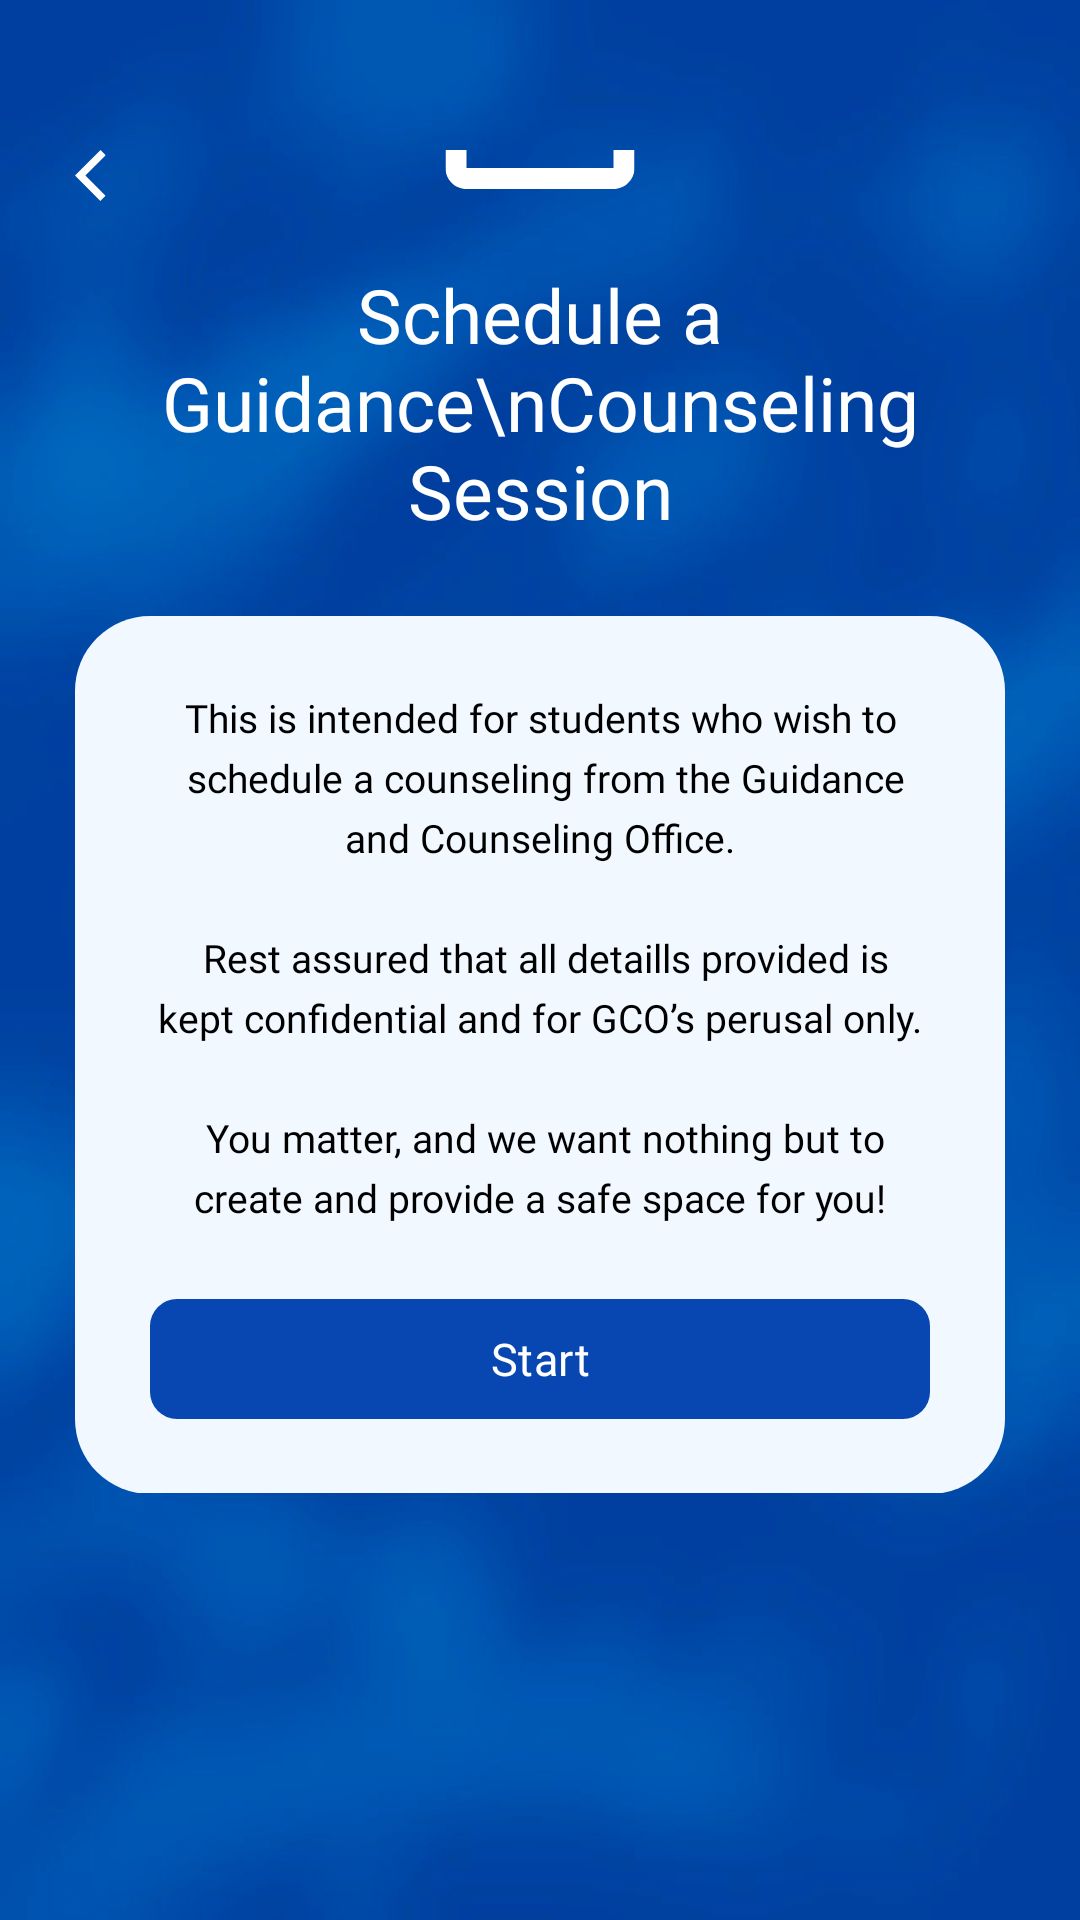

Locate icon controls on the screen. Image size 1080 × 1920, boxes as (left=x1, top=y1, right=x2, bottom=y2).
return: (left=75, top=150, right=106, bottom=201)
